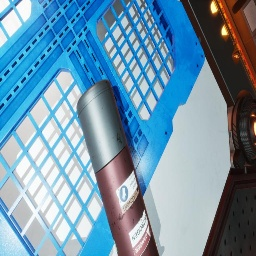NitrogenTank ,: (76, 79, 160, 256)
